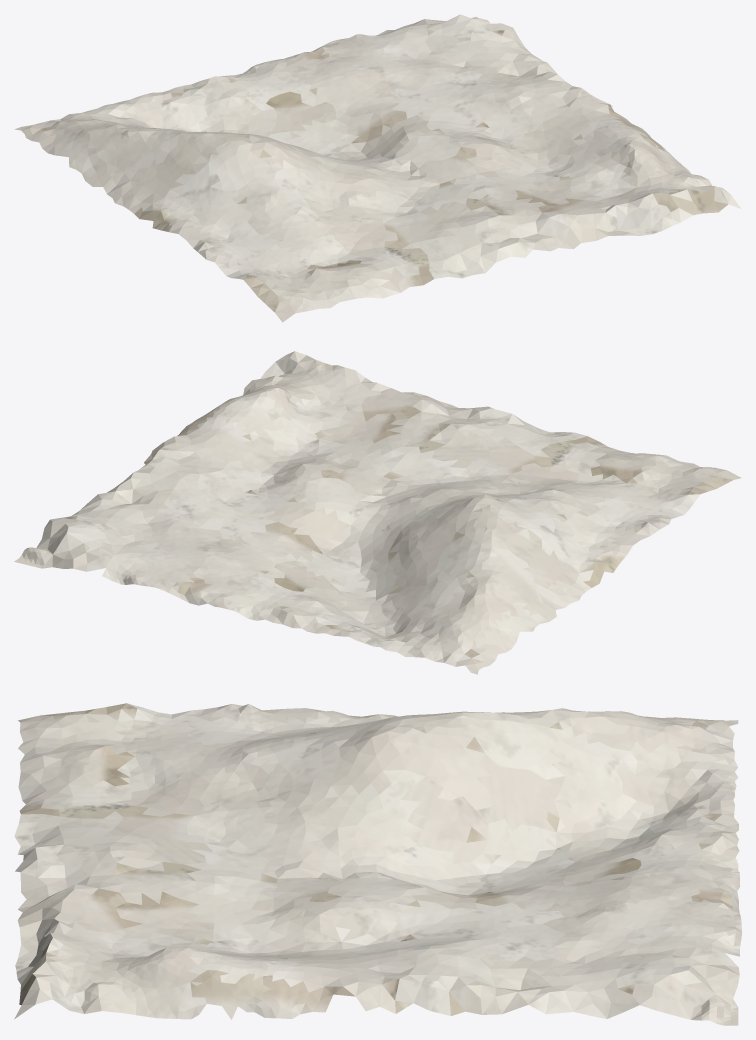
The model's file is terrain.obj.
The picture shows the model from 3 angles, top to bottom: view 1: azimuth 30°, elevation 25°; view 2: azimuth 150°, elevation 25°; view 3: azimuth 270°, elevation 25°; orthographic projection. The views are drawn at different scales.
Visible parts, largest first — view 1: Grid; view 2: Grid; view 3: Grid.
Part boxes in pixels (bbox=[...]): Grid: bbox=[14, 14, 741, 322]; Grid: bbox=[14, 351, 741, 674]; Grid: bbox=[14, 703, 741, 1025].
Bounding box in the file's own units: 20.08 × 2.72 × 20.14.
1 material, 1 textured.
